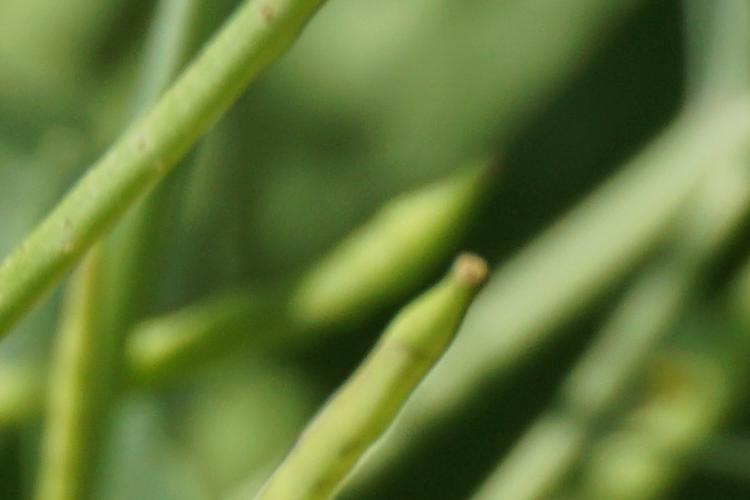pod: (50, 32, 286, 245), (296, 240, 488, 477), (251, 162, 521, 316)
